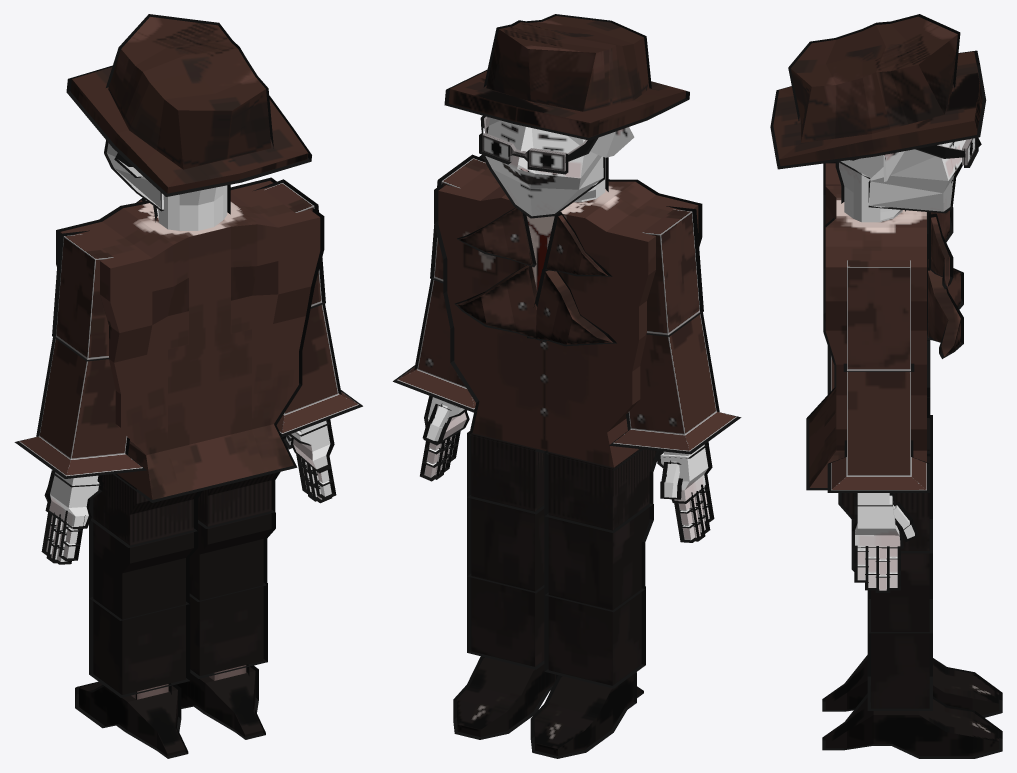
The model's file is Father.fbx.
The picture shows the model from 3 angles, left to right: view 1: azimuth 30°, elevation 25°; view 2: azimuth 150°, elevation 25°; view 3: azimuth 270°, elevation 25°; orthographic projection.
Parts seen in each view (by area): view 1: cuboid, HAT, cuboid_5, cuboid_45, cuboid_44, cuboid_41, cuboid_40, shoulder, cuboid_43, cuboid_46, cuboid_22, cuboid_42 (+15 smaller); view 2: cuboid, HAT, cuboid_5, cuboid_44, cuboid_45, HEAD, cuboid_43, cuboid_40, cuboid_41, cuboid_46, cuboid_42, shoulder (+22 smaller); view 3: HAT, cuboid, cuboid_22, shoulder_1, cuboid_42, HEAD, cuboid_41, cuboid_40, cuboid_46, HAT_outline, cuboid_4, cuboid_24 (+14 smaller).
Boxes of the visible parts, x1,y1,x2,y2 form: cuboid: (60,181,320,499); HAT: (70,16,308,193); cuboid_5: (19,336,142,476); cuboid_45: (93,598,185,699); cuboid_44: (93,522,193,618); cuboid_41: (189,584,263,680); cuboid_40: (189,513,271,599); shoulder: (56,234,113,358); cuboid_43: (93,473,197,545); cuboid_46: (79,682,185,755); cuboid_22: (276,302,358,433); cuboid_42: (176,666,263,736); cuboid: (438,161,698,467); HAT: (448,16,686,137); cuboid_5: (613,311,736,451); cuboid_44: (548,507,649,609); cuboid_45: (548,588,641,685); HEAD: (485,117,634,216); cuboid_43: (548,449,656,530); cuboid_40: (471,498,544,590); cuboid_41: (471,575,544,666); cuboid_46: (534,674,641,755); cuboid_42: (457,657,555,736); shoulder: (642,209,699,334); HAT: (773,16,982,166); cuboid: (809,163,926,487); cuboid_22: (831,370,926,490); shoulder_1: (847,260,910,369); cuboid_42: (825,697,999,756); HEAD: (841,140,965,211); cuboid_41: (871,631,929,708); cuboid_40: (871,553,929,630); cuboid_46: (825,659,999,715); HAT_outline: (770,14,986,169); cuboid_4: (928,270,960,356); cuboid_24: (855,495,900,546).
Size of the model in its own units: 204 by 447 by 136.
Materials: 8 (8 with a texture image).
